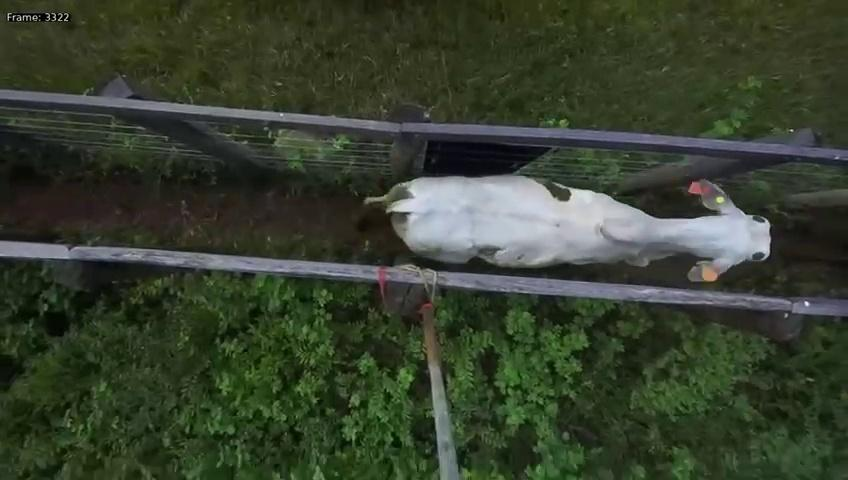cattle: (359, 164, 776, 285)
